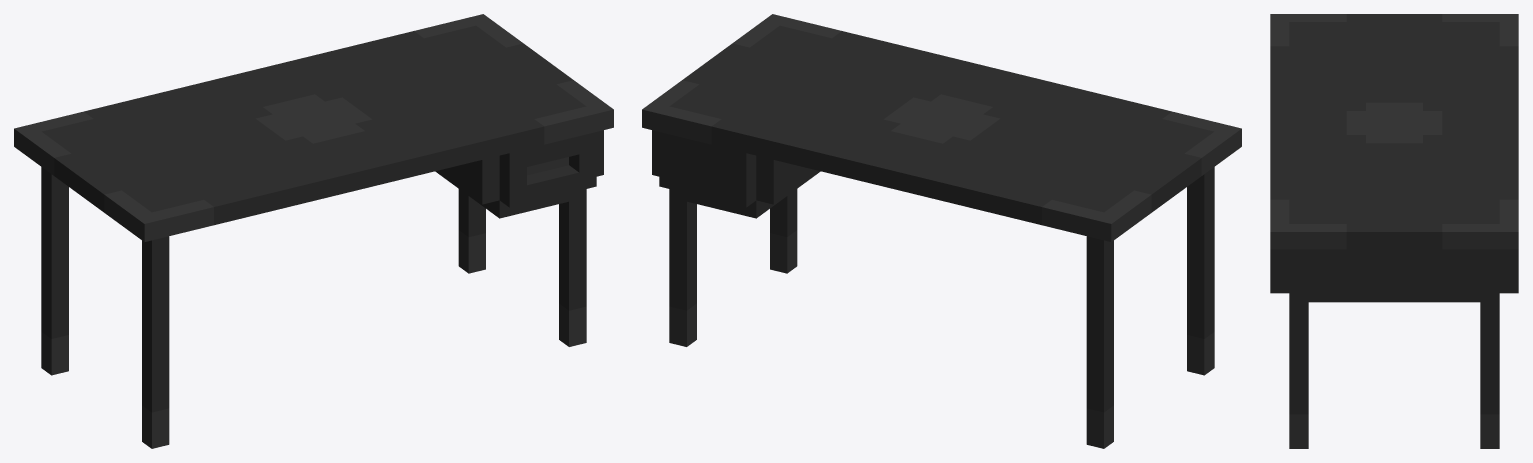
Rendered from Decor-49.obj.
3 renders of one model, left to right at view 1: azimuth 30°, elevation 25°; view 2: azimuth 150°, elevation 25°; view 3: azimuth 270°, elevation 25°, orthographic. The views are drawn at different scales.
Size of the model in its own units: 2.7 by 1.3 by 1.3.
Materials: 1 (1 with a texture image).
